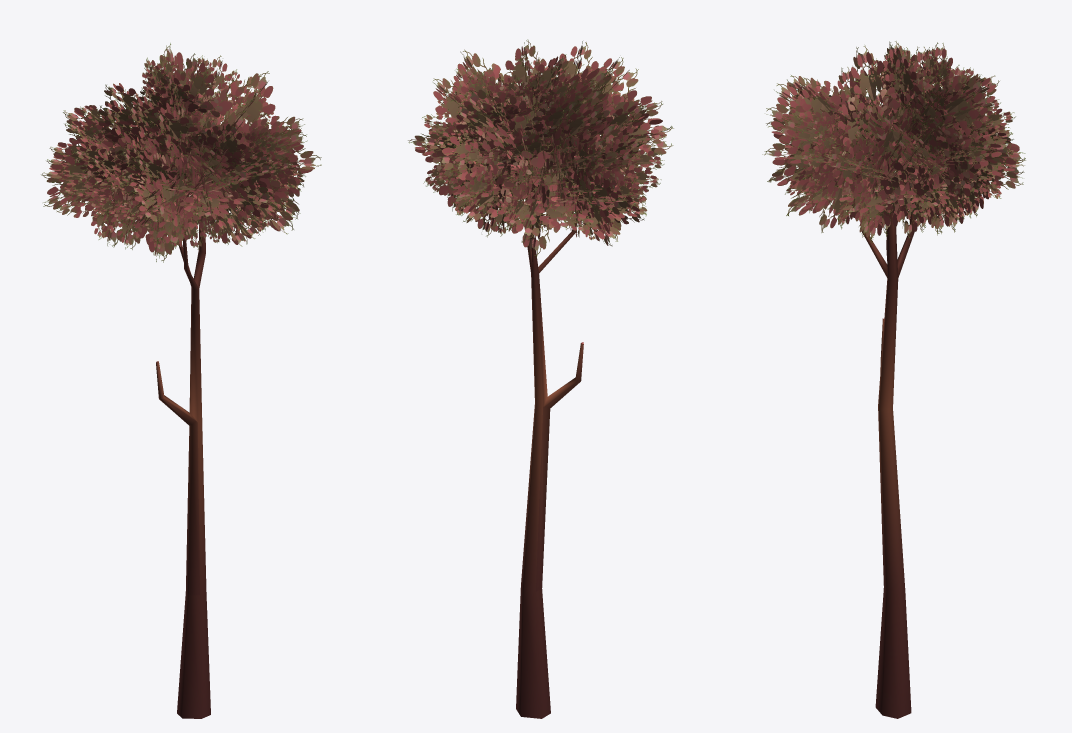
Rendered from Tree_3C.fbx.
3 renders of one model, left to right at view 1: azimuth 30°, elevation 25°; view 2: azimuth 150°, elevation 25°; view 3: azimuth 270°, elevation 25°, orthographic. The views are drawn at different scales.
Visible parts, largest first — view 1: Tree_3C; view 2: Tree_3C; view 3: Tree_3C.
Part boxes in pixels (bbox=[...]): Tree_3C: bbox=[41, 43, 321, 718]; Tree_3C: bbox=[408, 39, 673, 718]; Tree_3C: bbox=[762, 41, 1025, 718].
Bounding box in the file's own units: 356 × 843 × 359.
